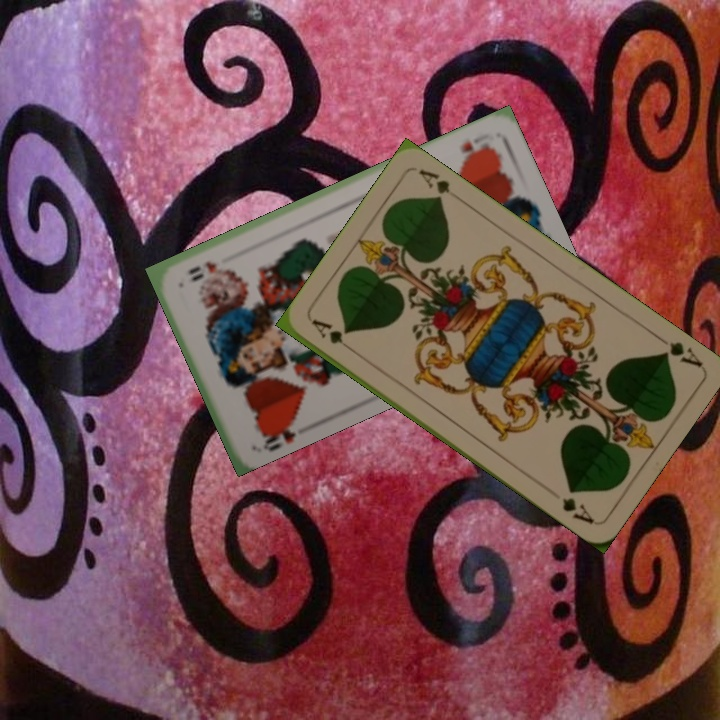GA: (651, 331, 705, 370), (308, 315, 359, 356)
HO: (258, 412, 300, 454), (456, 135, 497, 156)
